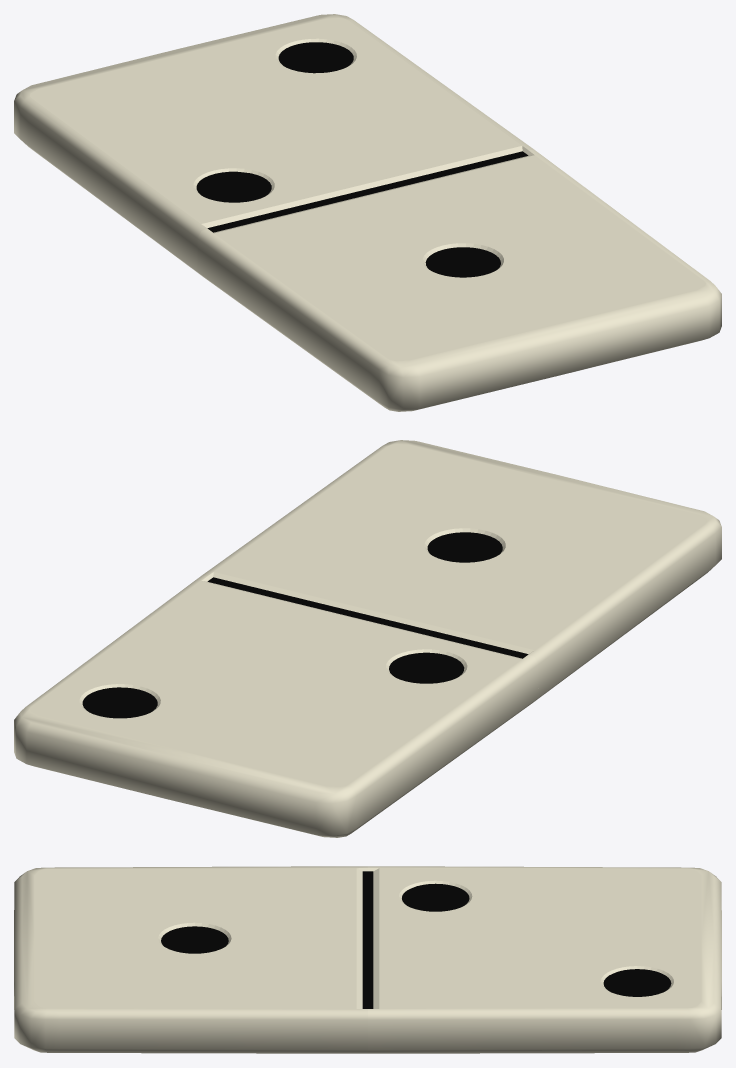
The model's file is Domino_1_2.glb.
3 renders of one model, top to bottom at view 1: azimuth 30°, elevation 25°; view 2: azimuth 150°, elevation 25°; view 3: azimuth 270°, elevation 25°, orthographic. The views are drawn at different scales.
Visible parts, largest first — view 1: Domino_1_2_A.001, Domino_1_2_B.001; view 2: Domino_1_2_B.001, Domino_1_2_A.001; view 3: Domino_1_2_A.001, Domino_1_2_B.001.
Part boxes in pixels (bbox=[...]): Domino_1_2_A.001: bbox=[197, 149, 721, 411]; Domino_1_2_B.001: bbox=[14, 14, 533, 276]; Domino_1_2_B.001: bbox=[14, 575, 538, 837]; Domino_1_2_A.001: bbox=[202, 440, 721, 702]; Domino_1_2_A.001: bbox=[14, 866, 367, 1053]; Domino_1_2_B.001: bbox=[368, 866, 721, 1053].
Size of the model in its own units: 0.7725 by 0.105 by 1.54.
